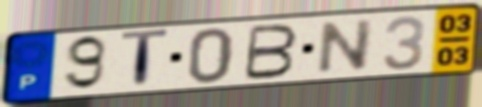0: (184, 26, 237, 86)
3: (381, 14, 427, 71)
9: (60, 34, 110, 93)
B: (241, 23, 301, 82)
N: (313, 17, 377, 76)
T: (118, 27, 172, 91)
